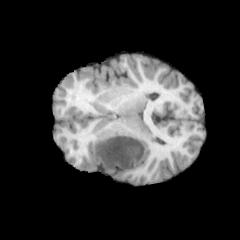glioma: (93, 135, 148, 171)
